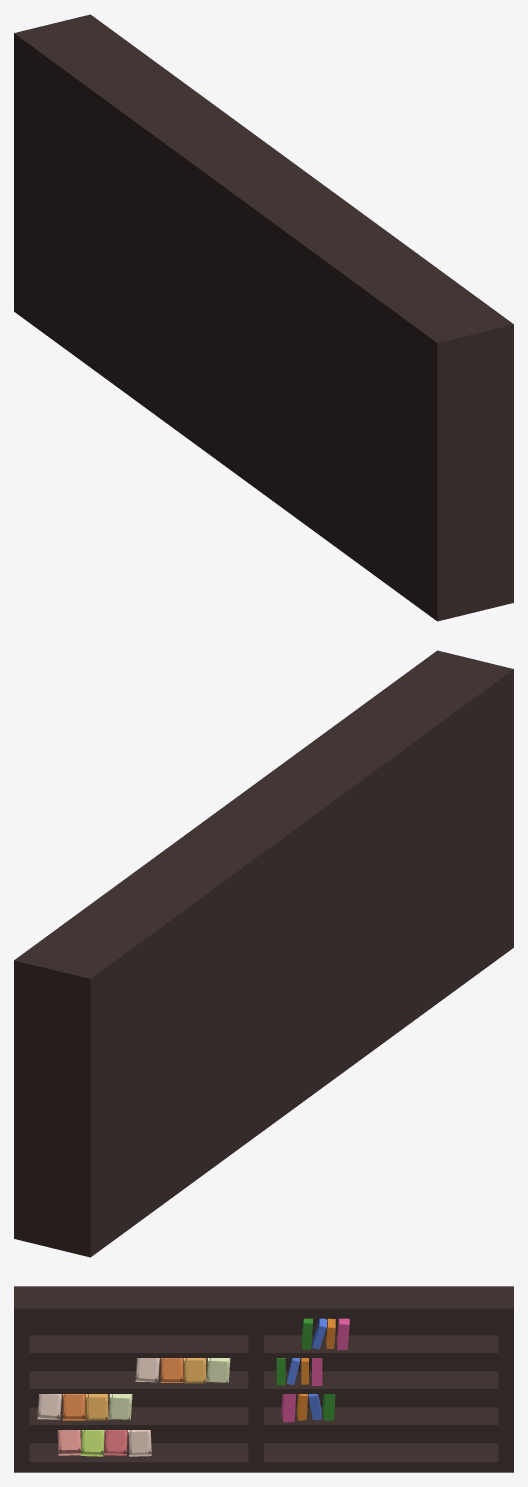
File: theGreatWallOfBEAN.glb
The picture shows the model from 3 angles, top to bottom: view 1: azimuth 30°, elevation 25°; view 2: azimuth 150°, elevation 25°; view 3: azimuth 270°, elevation 25°; orthographic projection. The views are drawn at different scales.
Parts seen in each view (by area): view 1: Cube; view 2: Cube; view 3: Cube, Cube.002, Cube.003, Cube.001, Cube.012, Cube.008, Cube.004.
Boxes of the visible parts, x1,y1,x2,y2 form: Cube: (14,14,513,621); Cube: (14,650,513,1257); Cube: (14,1286,513,1472); Cube.002: (37,1394,132,1420); Cube.003: (57,1430,151,1456); Cube.001: (135,1358,230,1383); Cube.012: (281,1394,335,1422); Cube.008: (301,1318,349,1350); Cube.004: (276,1358,322,1385).
Bounding box in the file's own units: 5.9 × 20.49 × 56.46.
